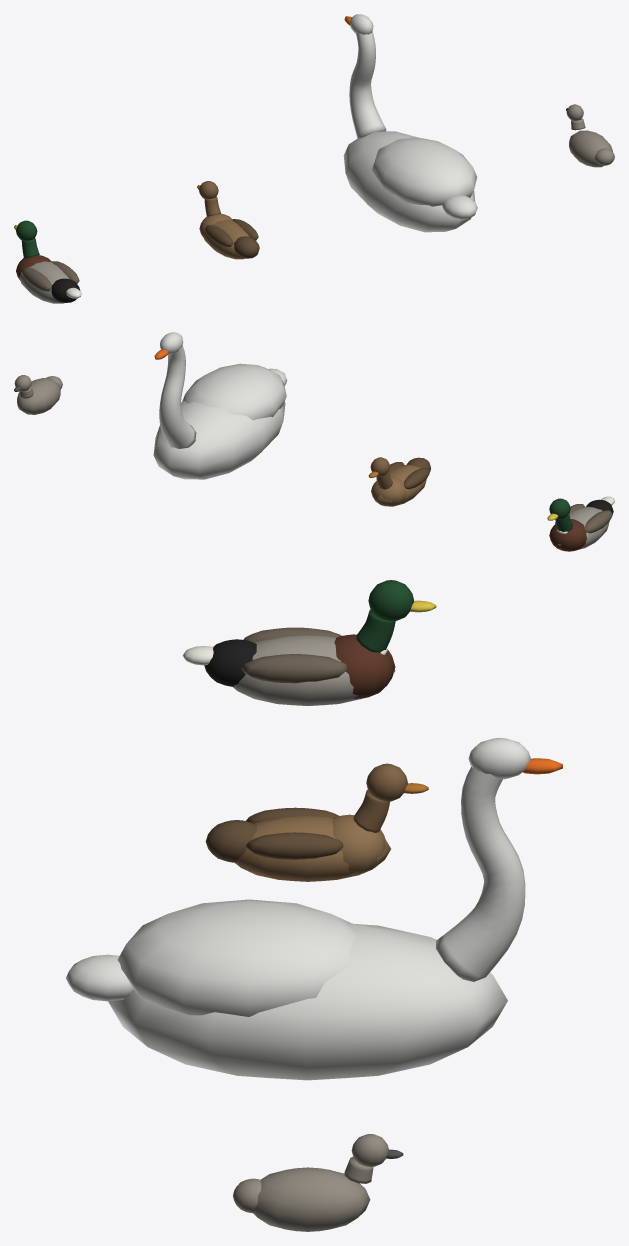
Rendered from wildlife.glb.
3 renders of one model, top to bottom at view 1: azimuth 30°, elevation 25°; view 2: azimuth 150°, elevation 25°; view 3: azimuth 270°, elevation 25°, orthographic. The views are drawn at different scales.
Parts seen in each view (by area): view 1: Swan body, Swan head, Drake body, Hen body, Cygnet body, Drake head, Hen head; view 2: Swan body, Swan head, Drake body, Hen body, Cygnet body, Drake head, Hen head, Cygnet head; view 3: Swan body, Swan head, Drake body, Hen body, Cygnet body, Drake head, Hen head, Cygnet head.
Boxes of the visible parts, <box> form: Swan body: <box>343,131,477,232</box>; Swan head: <box>344,14,386,139</box>; Drake body: <box>16,255,81,303</box>; Hen body: <box>199,213,259,259</box>; Cygnet body: <box>569,130,614,167</box>; Drake head: <box>14,220,39,258</box>; Hen head: <box>197,181,220,216</box>; Swan body: <box>153,363,287,479</box>; Swan head: <box>154,332,196,448</box>; Drake body: <box>549,496,614,551</box>; Hen body: <box>371,457,430,506</box>; Cygnet body: <box>17,376,62,414</box>; Drake head: <box>547,498,572,533</box>; Hen head: <box>368,457,392,489</box>; Cygnet head: <box>14,375,33,398</box>; Swan body: <box>66,899,507,1080</box>; Swan head: <box>436,738,562,981</box>; Drake body: <box>182,627,395,705</box>; Hen body: <box>205,807,390,881</box>; Cygnet body: <box>233,1167,370,1231</box>; Drake head: <box>356,580,436,654</box>; Hen head: <box>353,763,428,832</box>; Cygnet head: <box>344,1134,403,1183</box>.
Bounding box in the file's own units: 3.21 × 0.87 × 1.19.
